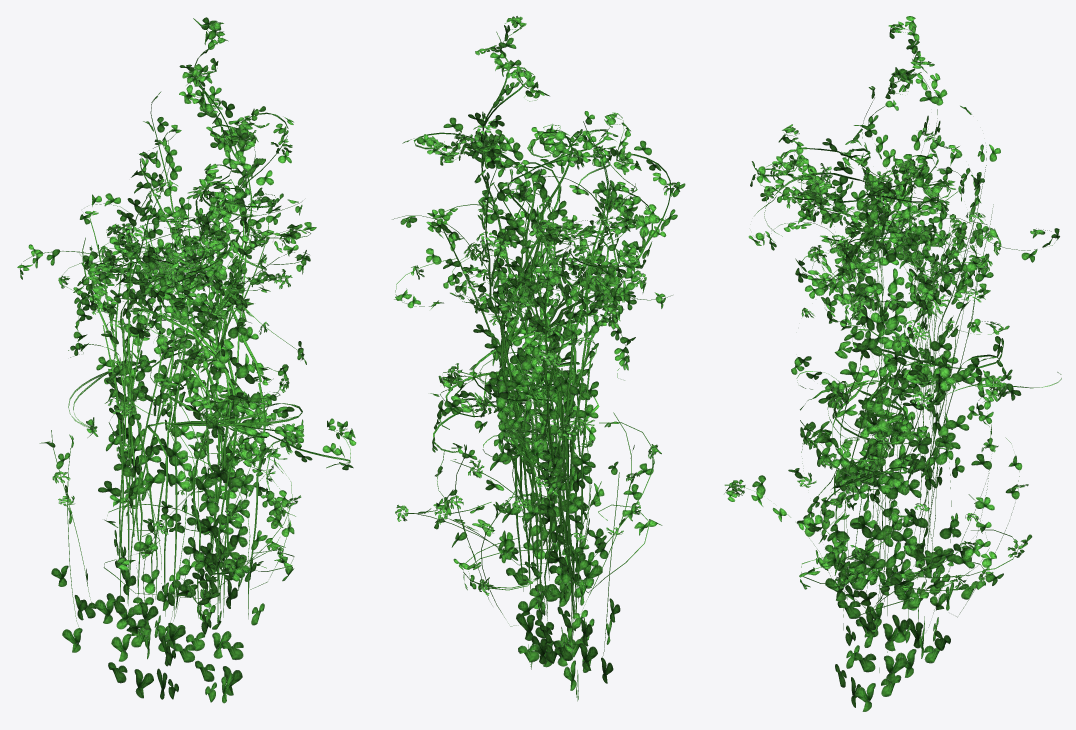
The model's file is big plant.fbx.
3 views of the same model, side by side, from view 1: azimuth 30°, elevation 25°; view 2: azimuth 150°, elevation 25°; view 3: azimuth 270°, elevation 25° (orthographic). The views are drawn at different scales.
Parts seen in each view (by area): view 1: big_plant1; view 2: big_plant1; view 3: big_plant1.
Boxes of the visible parts, left/top/right/bottom form: big_plant1: left=17, top=17, right=356, bottom=703; big_plant1: left=392, top=16, right=685, bottom=701; big_plant1: left=724, top=16, right=1061, bottom=711.
Bounding box in the file's own units: 1.9 × 4.22 × 1.89.
1 material, 1 textured.
